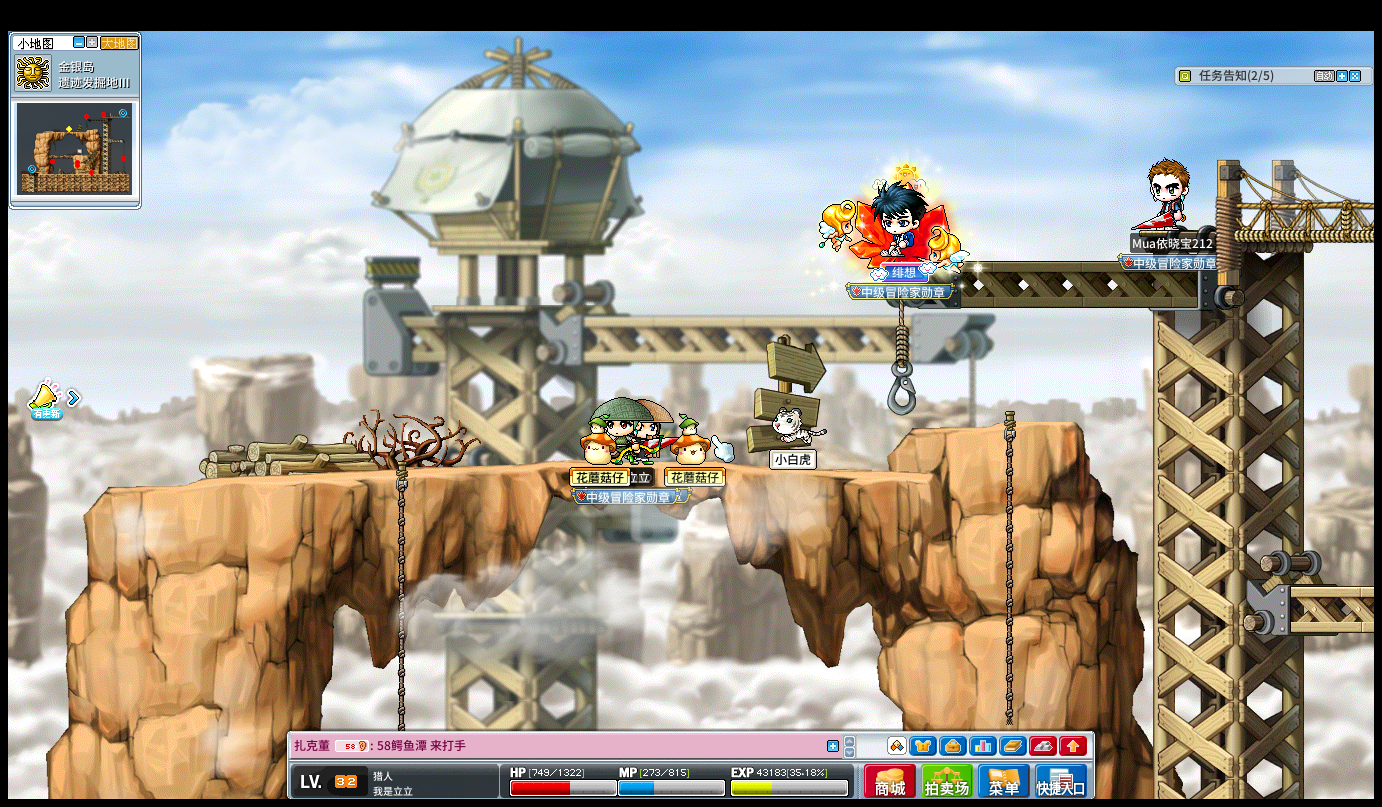floor: (90, 454, 918, 488), (96, 455, 958, 479), (903, 417, 1080, 432), (905, 420, 1082, 434), (1288, 583, 1376, 598)
rope: (1001, 408, 1016, 720), (392, 456, 407, 748), (395, 458, 407, 710), (1001, 615, 1015, 722)
